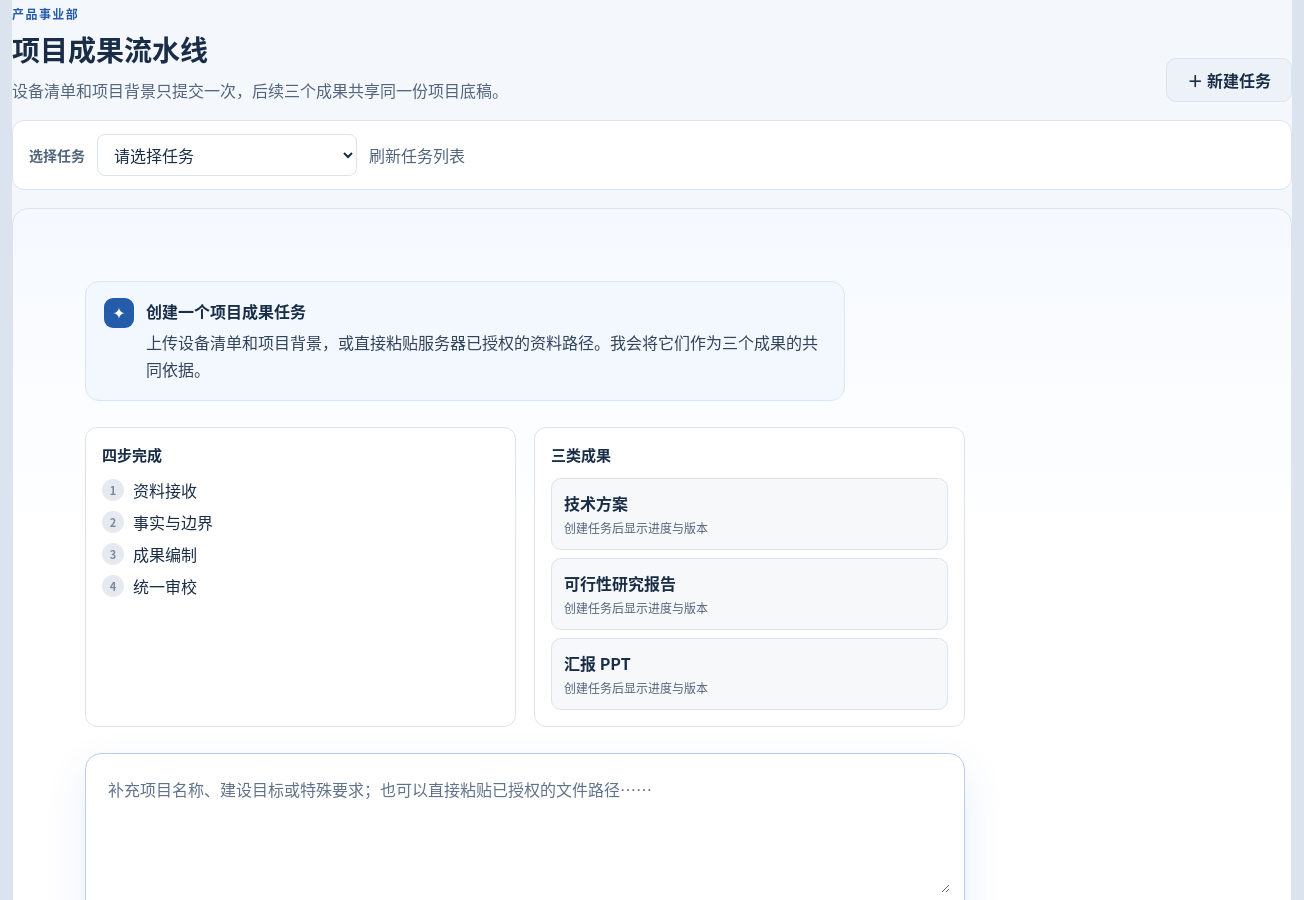
Test: 技术方案任务前端交互（mock，不验证模型或 Word 格式） › 任务对话区显示三类成果的 current、生成与来源状态
Select "真实项目 · 草稿" in the dropdown labelled "选择任务" at (227, 155), box [97,134,357,176]
(page scrolled)
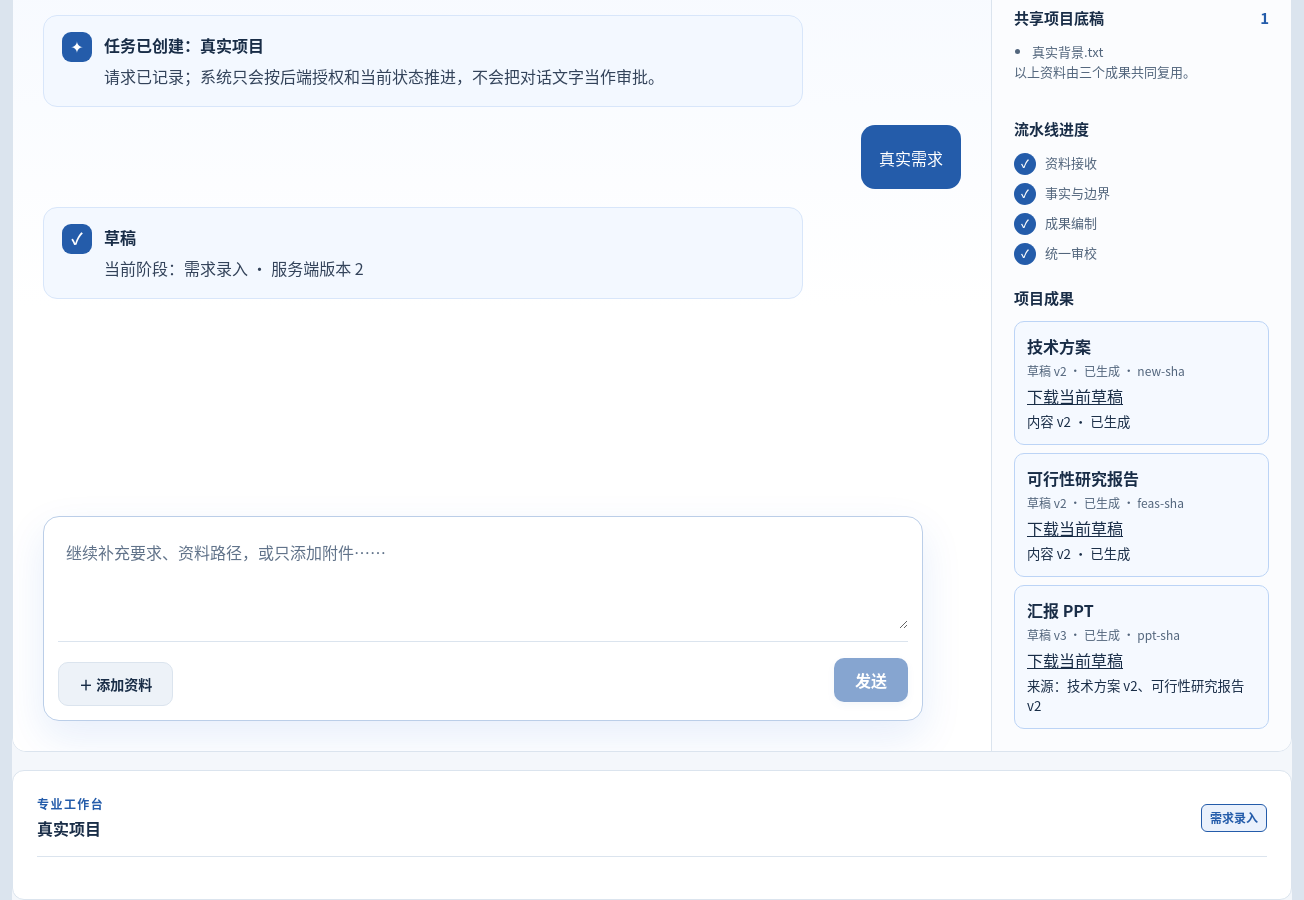
expect the element named "草稿标题" is shown: met, box [12,770,1292,899]
expect the element named "任务概览" shows "真实背景.txt": met, box [1032,42,1103,60]
expect the number of links "下载当前草稿" is 3: met, box [1027,384,1123,408]; [1027,516,1123,540]; [1027,648,1123,672]
